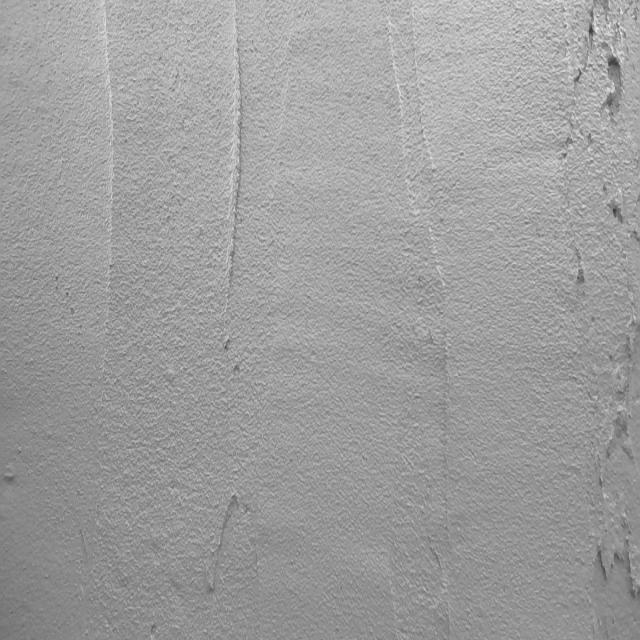trowels marks: (96, 12, 122, 384), (222, 0, 248, 367)
